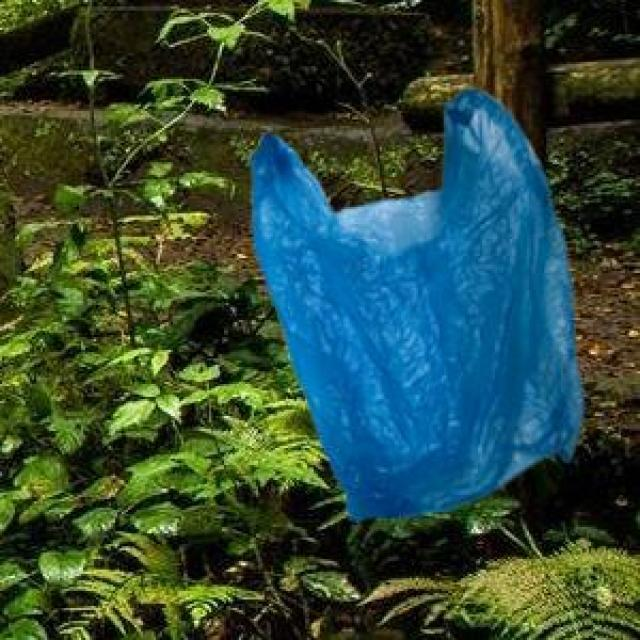waste: (247, 88, 589, 524)
